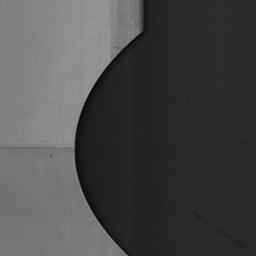Crescent gap: (74, 35, 138, 256)
